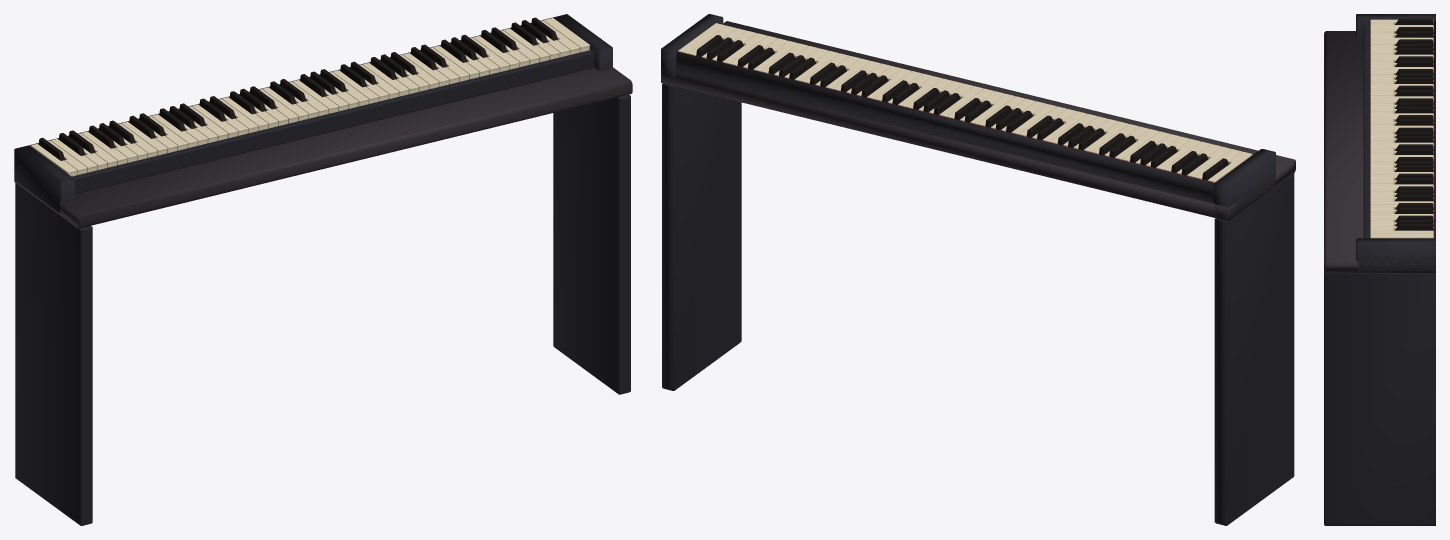
File: keyboard88.glb
3 renders of one model, left to right at view 1: azimuth 30°, elevation 25°; view 2: azimuth 150°, elevation 25°; view 3: azimuth 270°, elevation 25°, orthographic. The views are drawn at different scales.
Visible parts, largest first — view 1: panel-left, panel-right, table.001, slip.001, cheek-left, cheek-right; view 2: panel-left, panel-right, table.001, board.001, cheek-left, cheek-right; view 3: panel-right, table.001, cheek-right, slip.001, cheek-left, board.001, felt.001, key-108, key-58, key-94, key-51, key-107 (+47 smaller).
Part boxes in pixels (box(x1,y1,x2,y2)): panel-left: box(15, 183, 92, 525); panel-right: box(553, 94, 630, 394); table.001: box(14, 67, 632, 228); slip.001: box(72, 50, 593, 194); cheek-left: box(14, 145, 74, 213); cheek-right: box(552, 14, 612, 70); panel-left: box(1214, 173, 1294, 525); panel-right: box(662, 83, 741, 390); table.001: box(661, 21, 1295, 221); board.001: box(676, 52, 1213, 203); cheek-left: box(1213, 149, 1275, 220); cheek-right: box(661, 14, 723, 83); panel-right: box(1324, 270, 1435, 525); table.001: box(1324, 31, 1435, 272); cheek-right: box(1356, 238, 1435, 271); slip.001: box(1363, 23, 1369, 238); cheek-left: box(1356, 14, 1435, 36); board.001: box(1434, 20, 1435, 238); felt.001: box(1433, 20, 1434, 238); key-108: box(1370, 233, 1433, 238); key-58: box(1395, 106, 1433, 113); key-94: box(1395, 194, 1433, 201); key-51: box(1395, 89, 1433, 96); key-107: box(1370, 229, 1433, 233).
Size of the model in its own units: 1.29 by 0.752 by 0.265.
16 materials, 16 textured.
